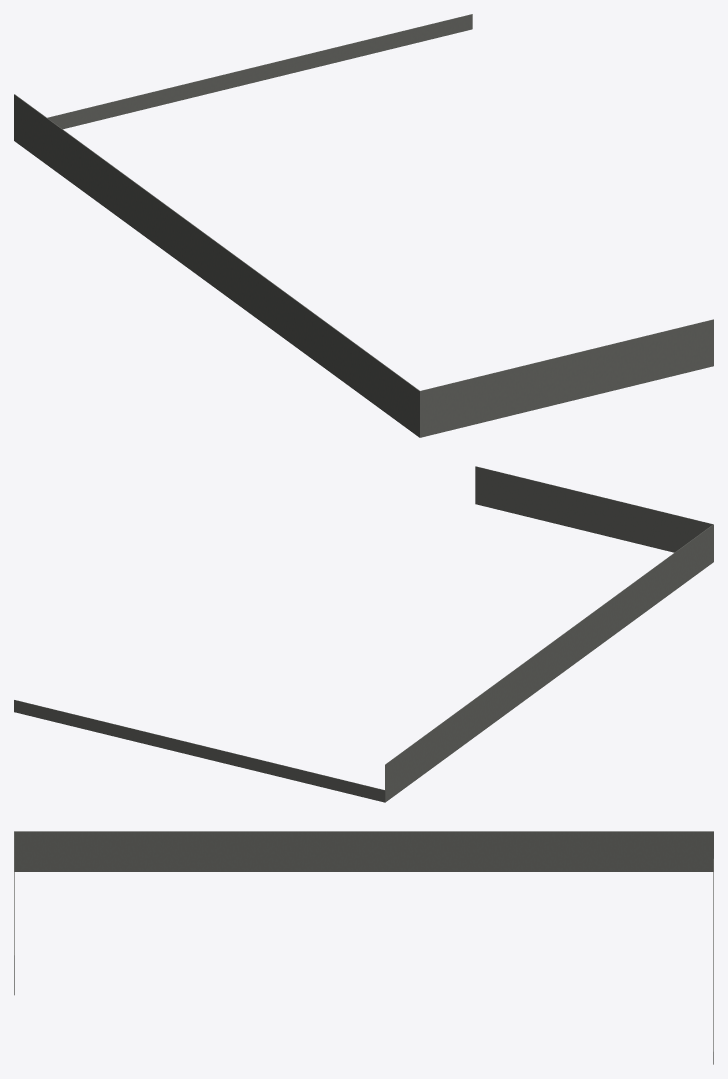
Rendered from 2345_kitchen_BP_MarbleBiancoGioiaPinwheelMosaic.gltf.
The picture shows the model from 3 angles, top to bottom: view 1: azimuth 30°, elevation 25°; view 2: azimuth 150°, elevation 25°; view 3: azimuth 270°, elevation 25°; orthographic projection. The views are drawn at different scales.
Parts seen in each view (by area): view 1: BP_Marble Bianco Gioia Pinwheel Mosaic; view 2: BP_Marble Bianco Gioia Pinwheel Mosaic; view 3: BP_Marble Bianco Gioia Pinwheel Mosaic.
Part boxes in pixels (x1,y1,x2,y2): BP_Marble Bianco Gioia Pinwheel Mosaic: (14, 14, 713, 437); BP_Marble Bianco Gioia Pinwheel Mosaic: (14, 466, 713, 802); BP_Marble Bianco Gioia Pinwheel Mosaic: (14, 831, 713, 1064).
Bounding box in the file's own units: 6.39 × 0.62 × 9.8.
1 material, 1 textured.
